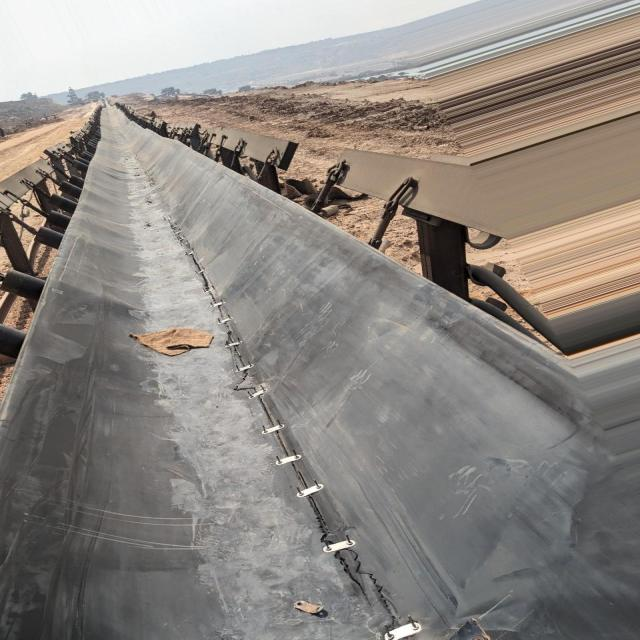Other Objects: (130, 326, 214, 357)
Roller: (32, 155, 92, 250), (0, 270, 47, 301), (0, 323, 27, 359)
patch work: (180, 267, 451, 640)
